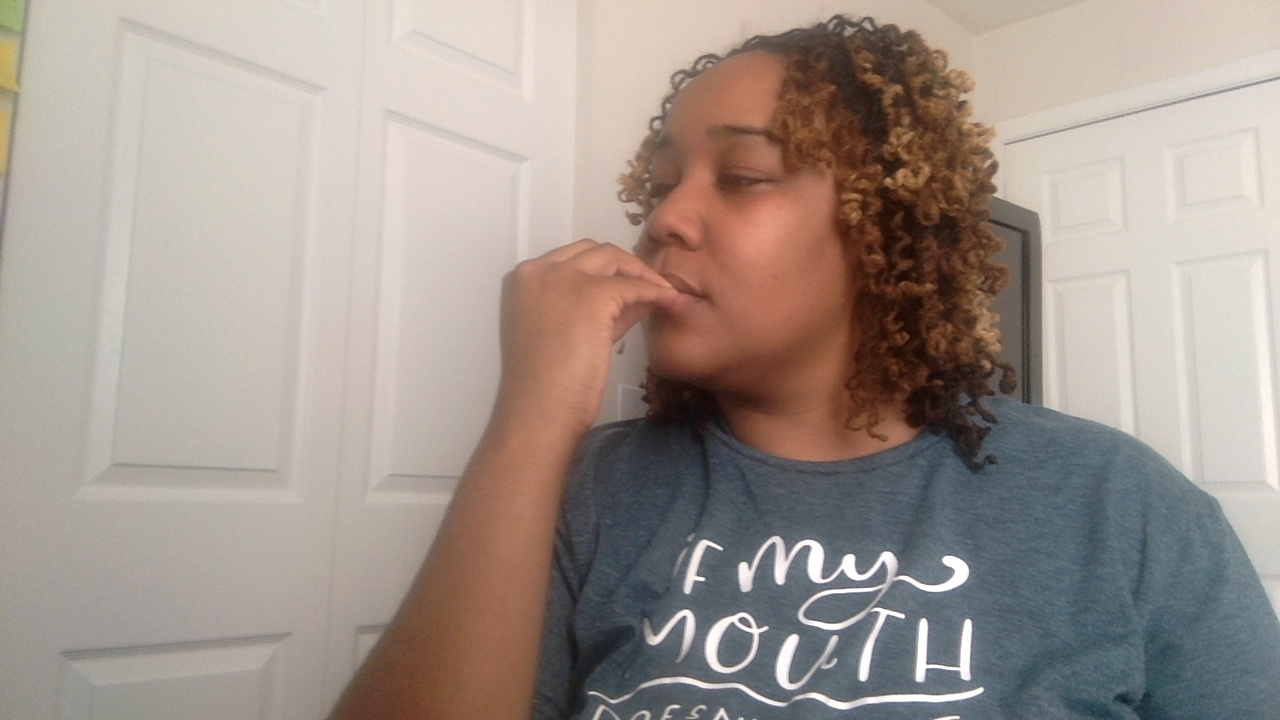eat: (395, 10, 1065, 497)
